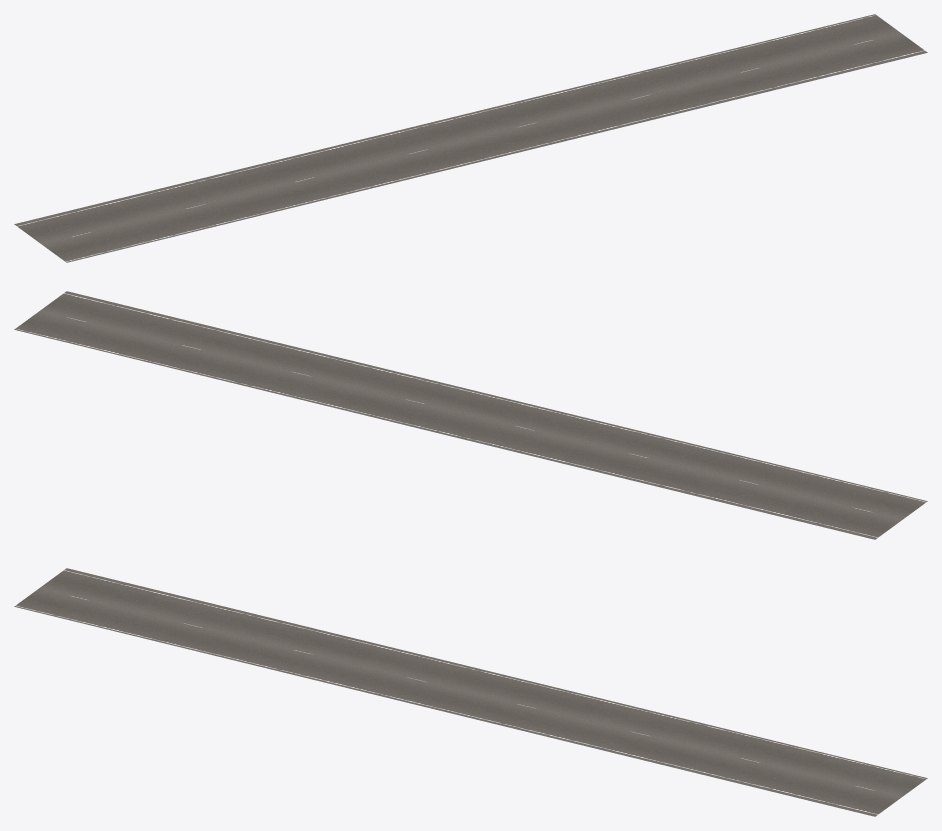
Rendered from Road_001.fbx.
3 views of the same model, one above another, from view 1: azimuth 30°, elevation 25°; view 2: azimuth 150°, elevation 25°; view 3: azimuth 330°, elevation 25° (orthographic).
Parts seen in each view (by area): view 1: Ground1; view 2: Ground1; view 3: Ground1.
Part boxes in pixels (bbox=[...]): Ground1: bbox=[14, 14, 927, 262]; Ground1: bbox=[14, 291, 927, 539]; Ground1: bbox=[14, 568, 927, 816].
Bounding box in the file's own units: 23.48 × 5.21e-15 × 2.49.
Materials: 1 (1 with a texture image).
